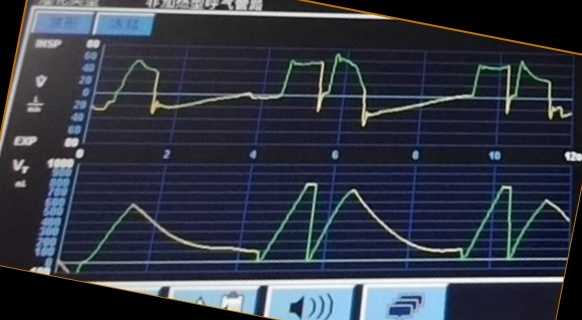Double_Triggering Flow: (101, 51, 572, 139)
Double_Triggering Volume: (86, 169, 565, 269)
